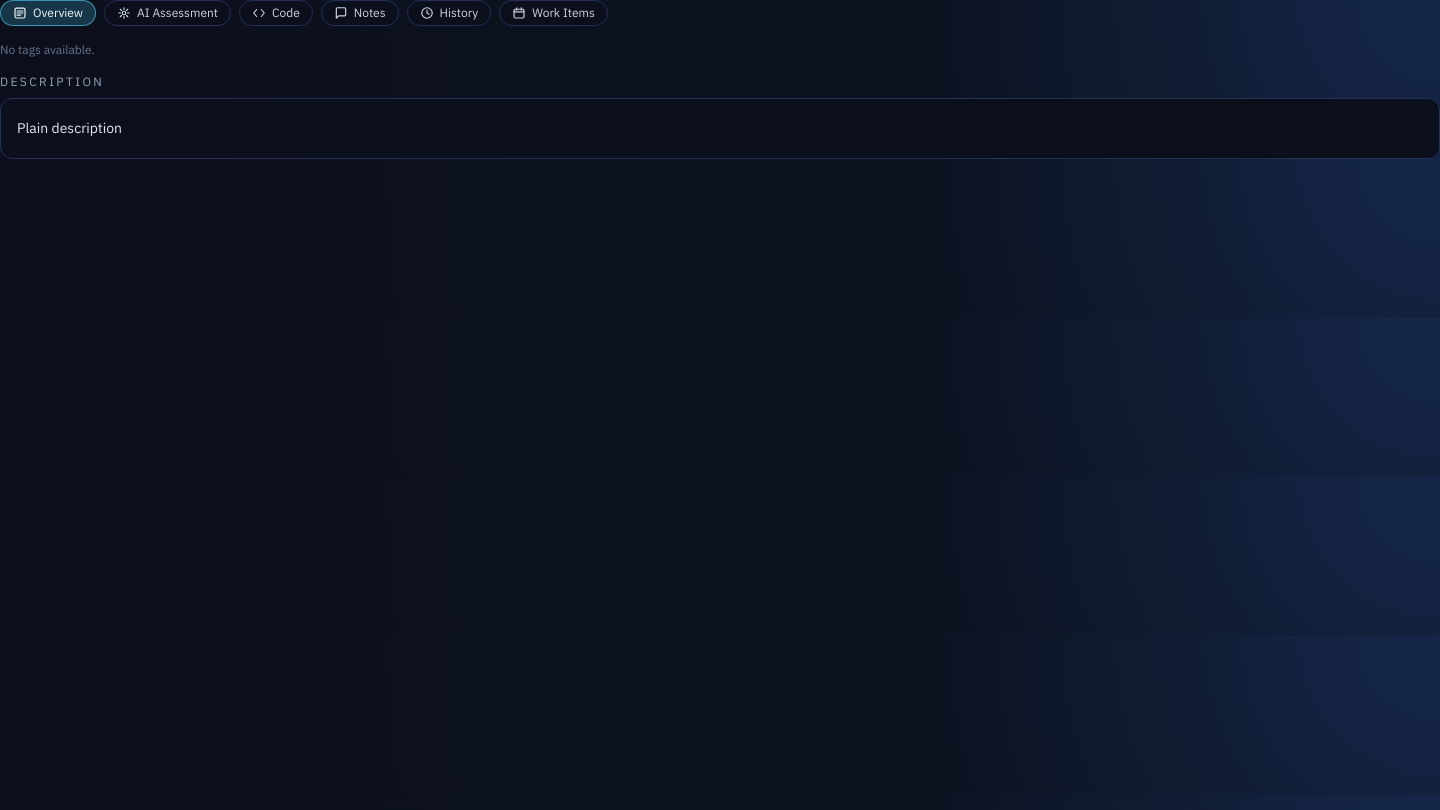
Test: FindingDetailTabs › renders AI reasoning as markdown in AI Assessment tab
Click the button "AI Assessment" at (168, 13), box [104,0,231,26]
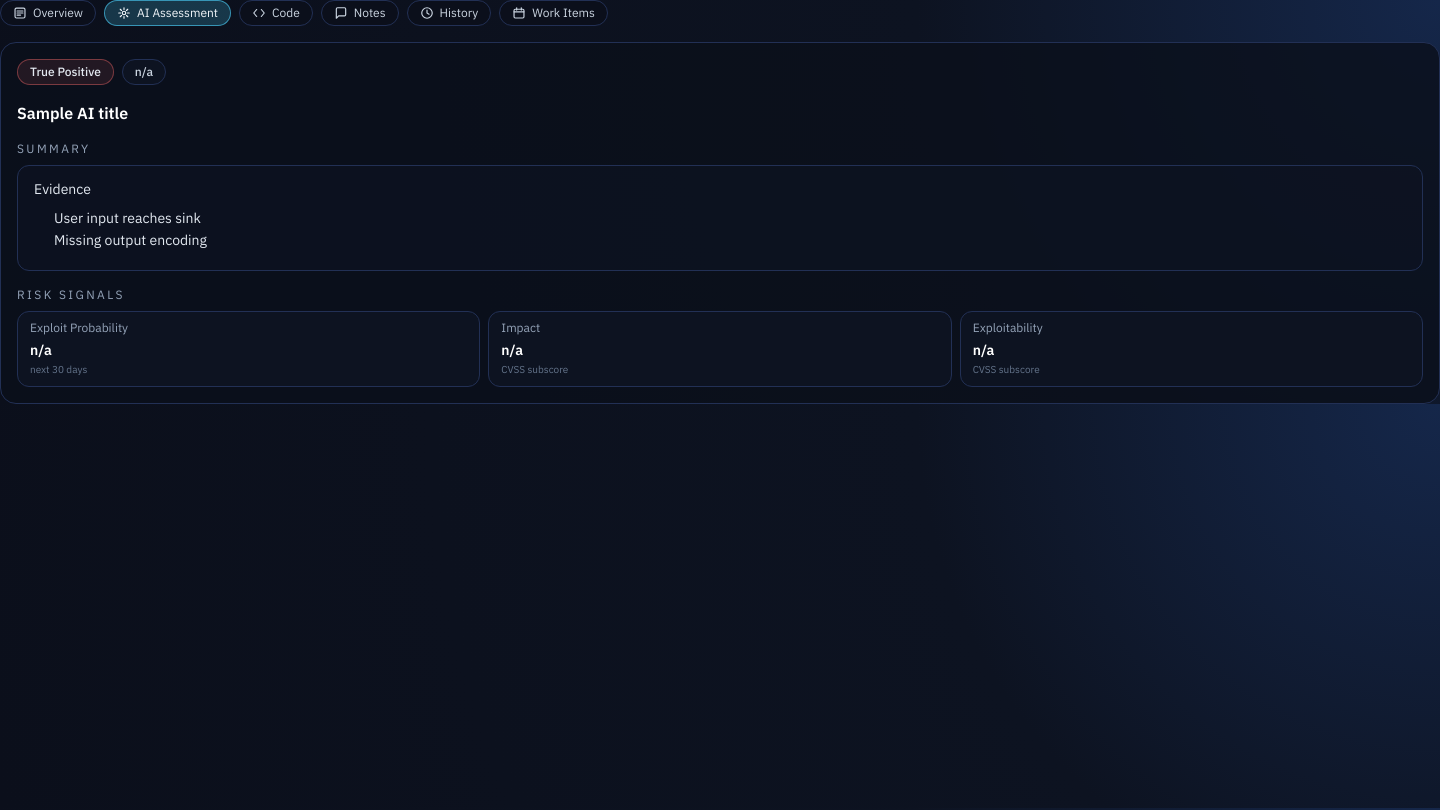
Expected: the heading "Evidence" is shown, [34,180,91,198]
Expected: the list item "User input reaches sink" is shown, [54,209,201,227]
Expected: the list item "Missing output encoding" is shown, [54,231,207,249]
